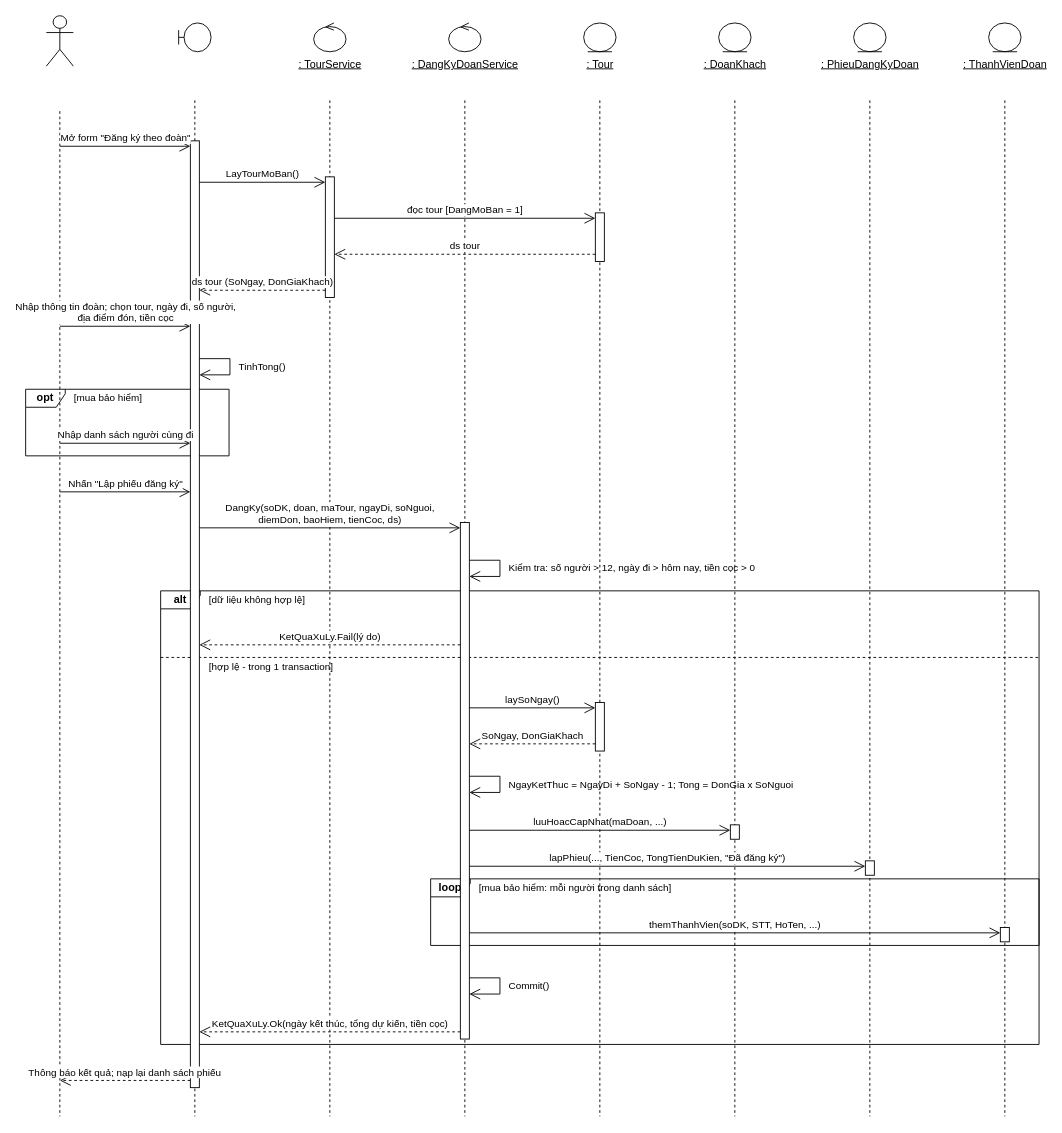
Image size: 1062x1133. Some labels were removed from this diagram. The centre of each missing label's shape, as x and y in pixels:
: FrmDangKyDoan: the point at 194,37
: NV kinh doanh: the point at 59,40
